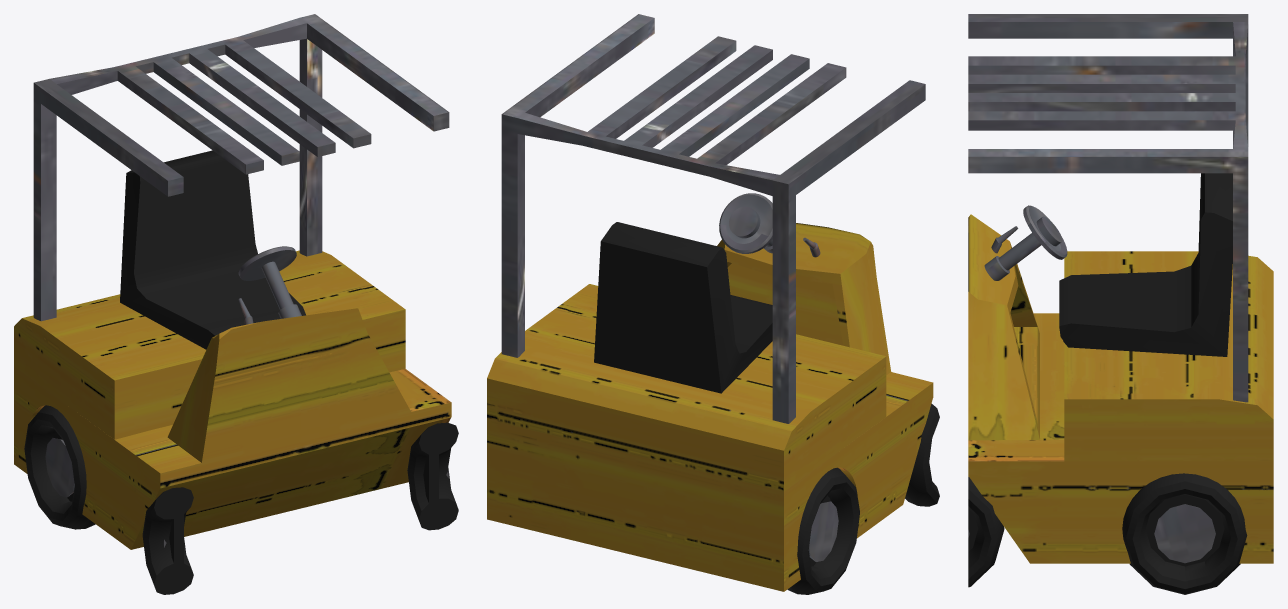
File: forklift_CUT2.fbx
3 views of the same model, side by side, from view 1: azimuth 30°, elevation 25°; view 2: azimuth 150°, elevation 25°; view 3: azimuth 270°, elevation 25° (orthographic). The views are drawn at different scales.
Visible parts, largest first — view 1: Torus.001; view 2: Torus.001; view 3: Torus.001.
Part boxes in pixels (bbox=[...]): Torus.001: bbox=[14, 14, 458, 594]; Torus.001: bbox=[487, 14, 939, 594]; Torus.001: bbox=[968, 14, 1273, 594].
Bounding box in the file's own units: 215 × 285 × 179.
3 materials, 2 textured.
